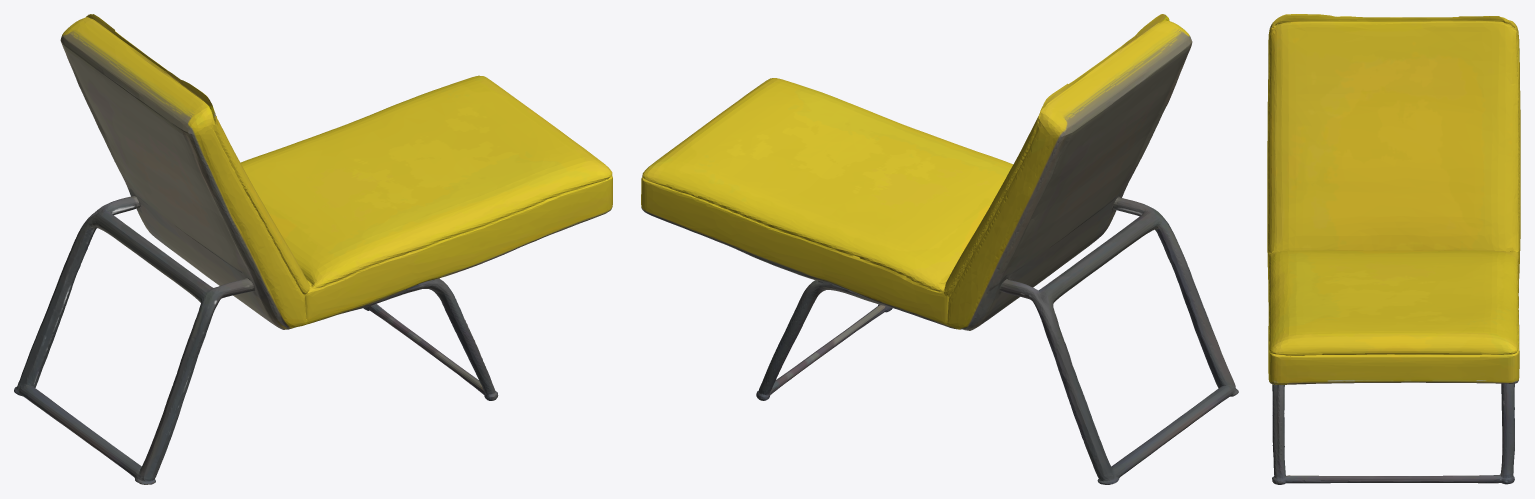
File: lounge_chair_24.obj
3 views of the same model, side by side, from view 1: azimuth 30°, elevation 25°; view 2: azimuth 150°, elevation 25°; view 3: azimuth 270°, elevation 25° (orthographic). The views are drawn at different scales.
Size of the model in its own units: 1.08 by 0.8 by 0.5374.
1 material, 1 textured.
